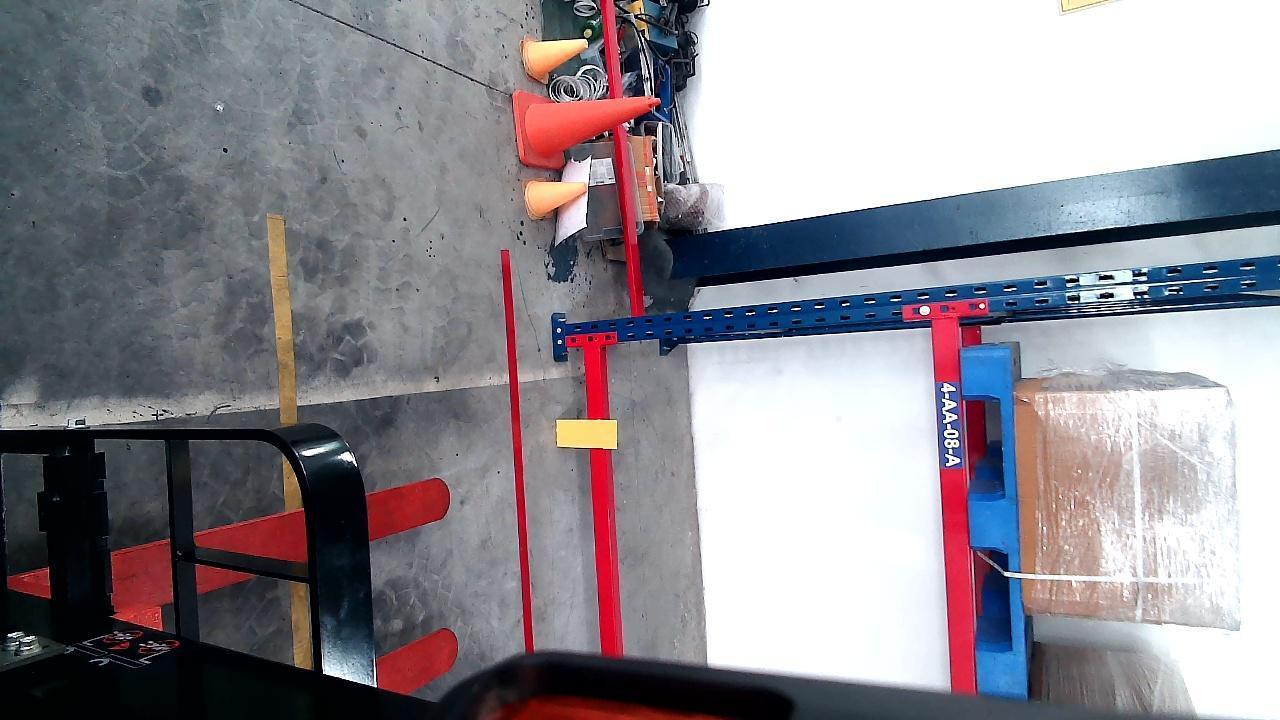h_rack: (934, 314, 974, 694), (587, 343, 617, 655)
orange_strip: (555, 418, 616, 449)
red_line: (505, 263, 534, 664)
small_pallet: (966, 349, 1026, 684)
yellow_line: (269, 207, 298, 420)
